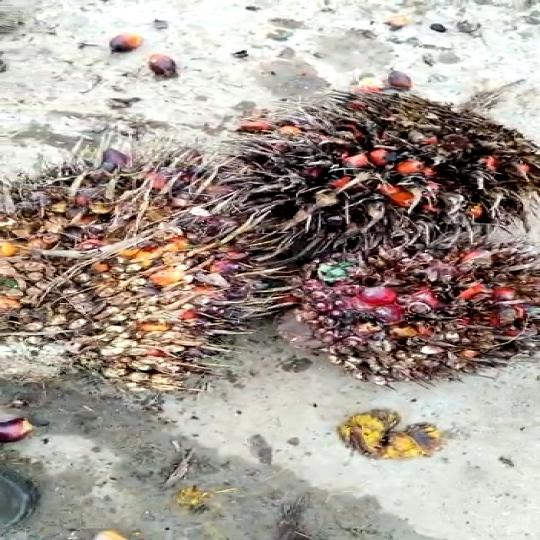terlalu masak: (0, 133, 291, 400), (231, 86, 540, 270), (270, 229, 540, 389)
